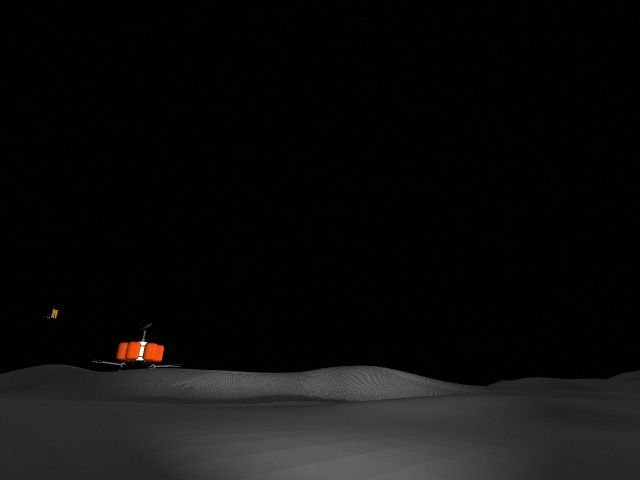cubesat: (44, 304, 61, 322)
